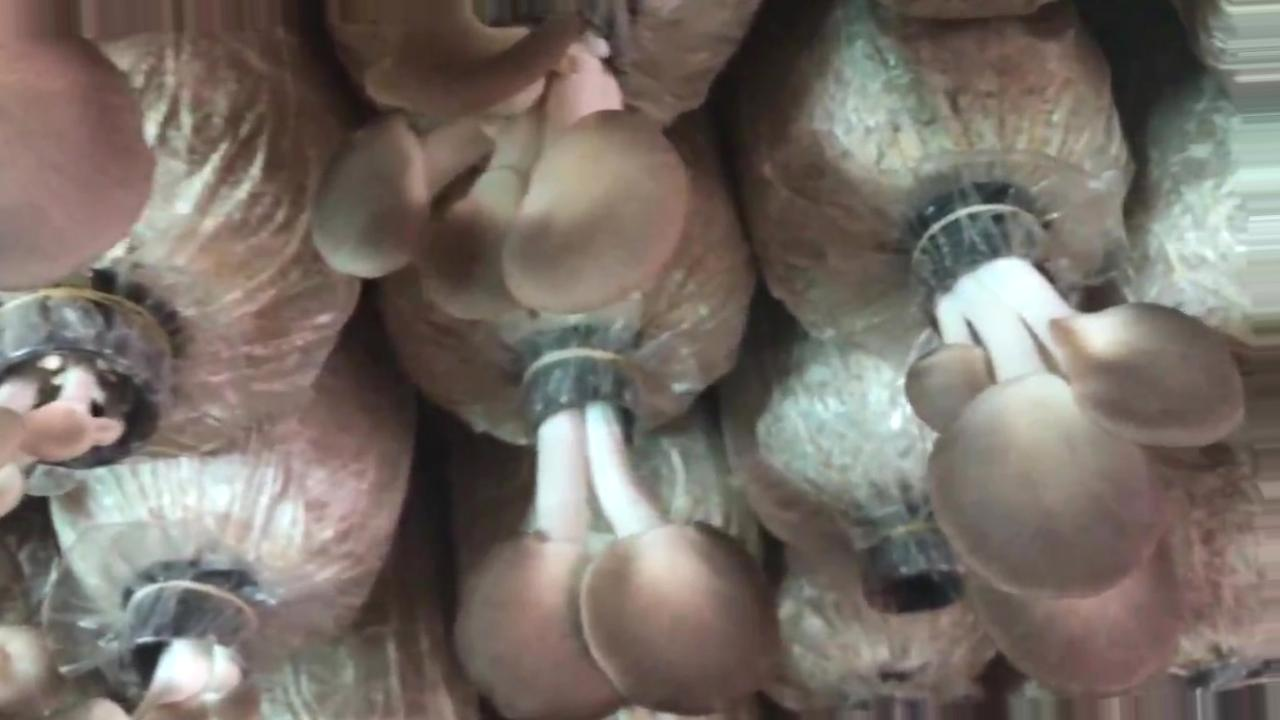nam: (911, 213, 1242, 692), (457, 352, 781, 720), (314, 1, 684, 314), (1, 3, 153, 289), (1, 296, 161, 506), (116, 588, 260, 720)
